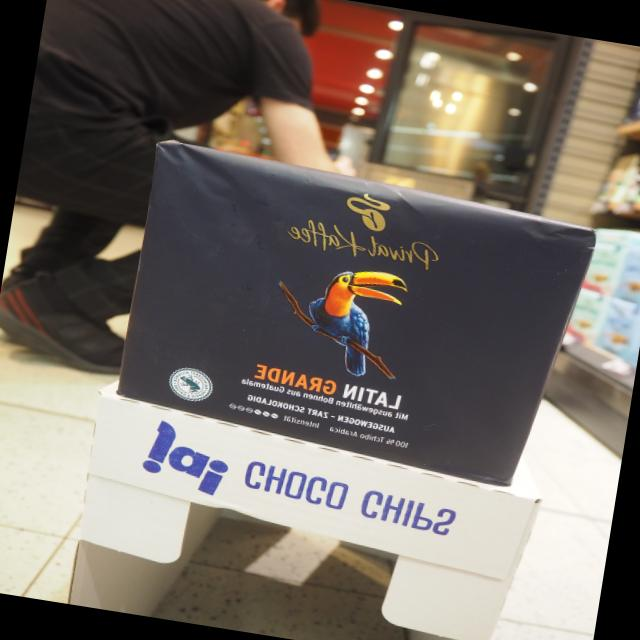LG Gemahlen: (112, 134, 606, 492)
